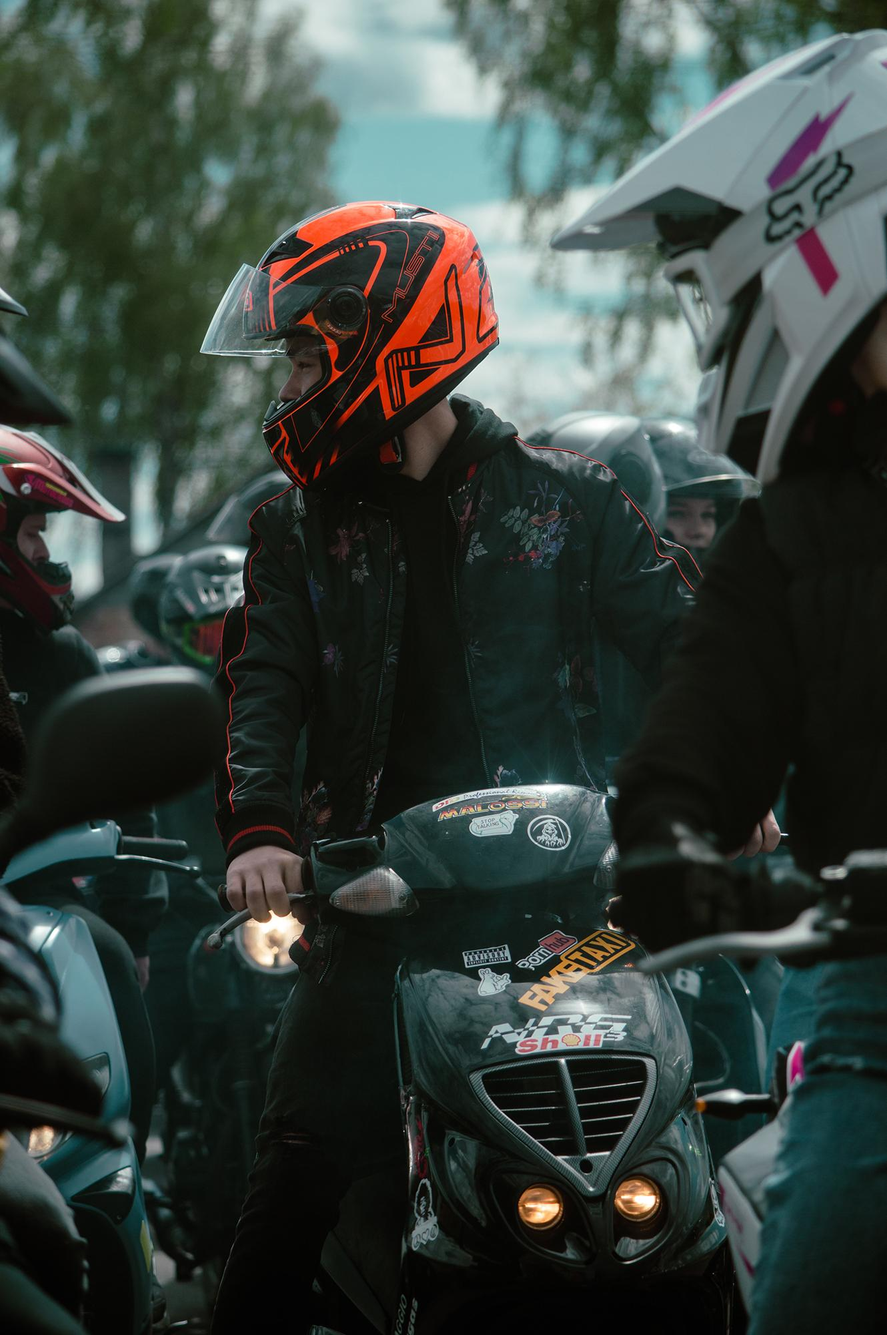helmet: (547, 22, 887, 490), (198, 199, 501, 495)
